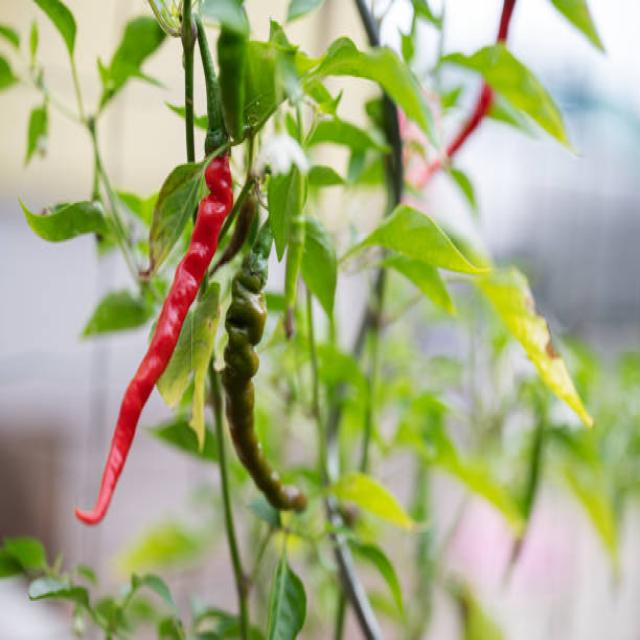Ripe: (76, 153, 231, 524)
Unripe: (222, 241, 303, 508)
